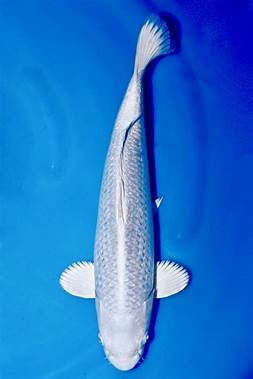white: (59, 14, 191, 372)
